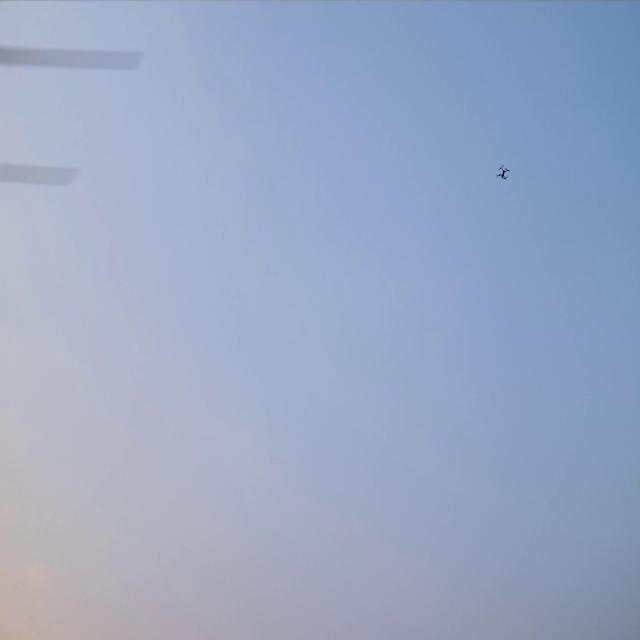UAV: (495, 163, 511, 180)
